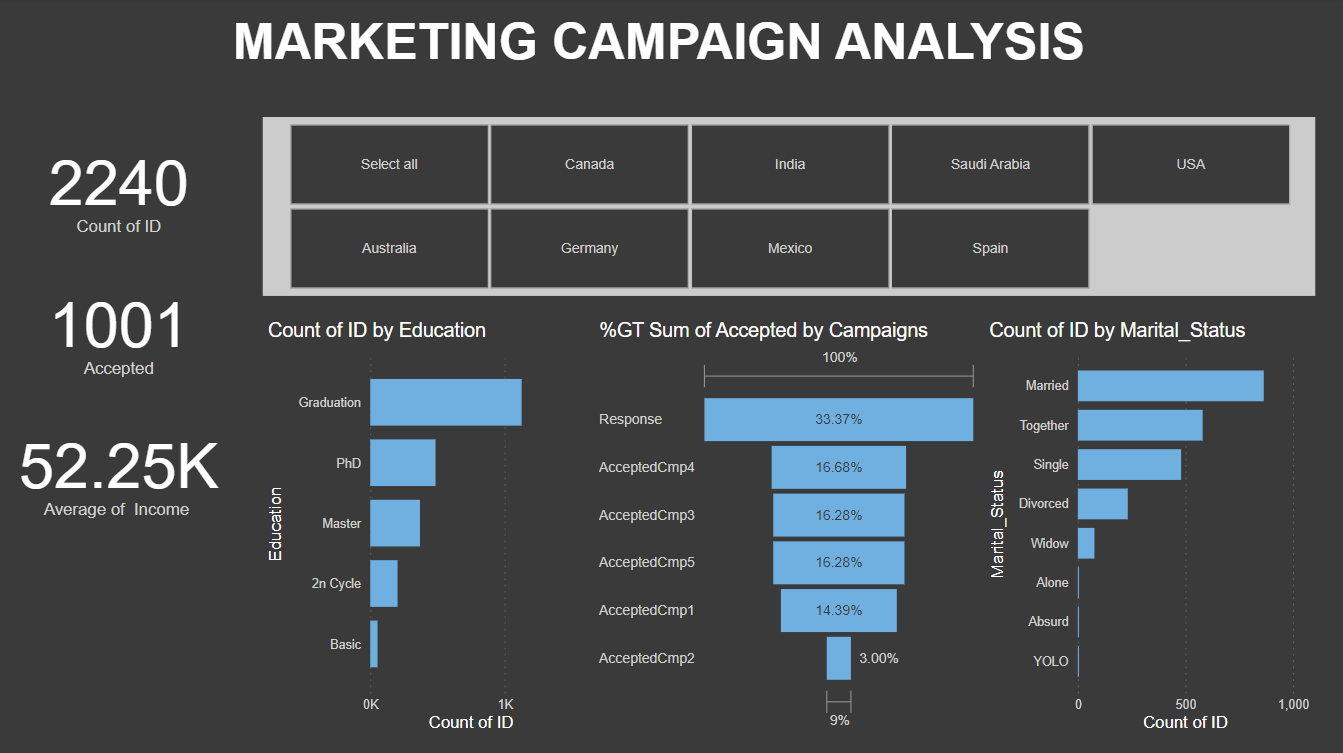

This screenshot's page, from the dashboard's own definition file:
{"tool":"powerbi","page":{"name":"Dashboard","canvas":[1280,720],"ordinal":0},"visuals":[{"type":"textbox","box":[218,11,843.9,74.1],"z":0},{"type":"card","fields":{"Values":["Count(marketing_data.ID)"]},"box":[10.7,114.3,207.1,134.5],"z":1000},{"type":"card","fields":{"Values":["Sum(marketing_data.Accepted)"]},"box":[10.7,248.8,207,134.5],"z":2000},{"type":"card","fields":{"Values":["Avg(marketing_data. Income )"]},"box":[10.7,383.3,207,134.5],"z":3000},{"type":"slicer","fields":{"Values":["marketing_data.Country"]},"box":[251.2,114.3,1002.4,170.2],"z":4000},{"type":"clusteredBarChart","fields":{"Category":["marketing_data.Education"],"Y":["Count(marketing_data.ID)"]},"box":[251.2,307.1,315.5,397.6],"z":5000},{"type":"funnel","fields":{"Category":["marketing_data.Campaigns"],"Y":["Sum(marketing_data.Accepted)"]},"box":[566.7,307.1,371.4,397.6],"z":6000},{"type":"clusteredBarChart","fields":{"Category":["marketing_data.Marital_Status"],"Y":["Count(marketing_data.ID)"]},"box":[938.1,307.1,315.5,397.6],"z":7000}]}

Visuals, with their boxes in screenshot pixels (x1, y1, x2, y2), scaled from the page's 1280x720 canvas onto the 1343x753 screenshot:
textbox: select_region(229, 12, 1114, 89)
card - Count(marketing_data.ID): select_region(11, 120, 229, 260)
card - Sum(marketing_data.Accepted): select_region(11, 260, 228, 401)
card - Avg(marketing_data. Income ): select_region(11, 401, 228, 542)
slicer - marketing_data.Country: select_region(264, 120, 1315, 298)
clusteredBarChart - marketing_data.Education x Count(marketing_data.ID): select_region(264, 321, 595, 737)
funnel - marketing_data.Campaigns x Sum(marketing_data.Accepted): select_region(595, 321, 984, 737)
clusteredBarChart - marketing_data.Marital_Status x Count(marketing_data.ID): select_region(984, 321, 1315, 737)
